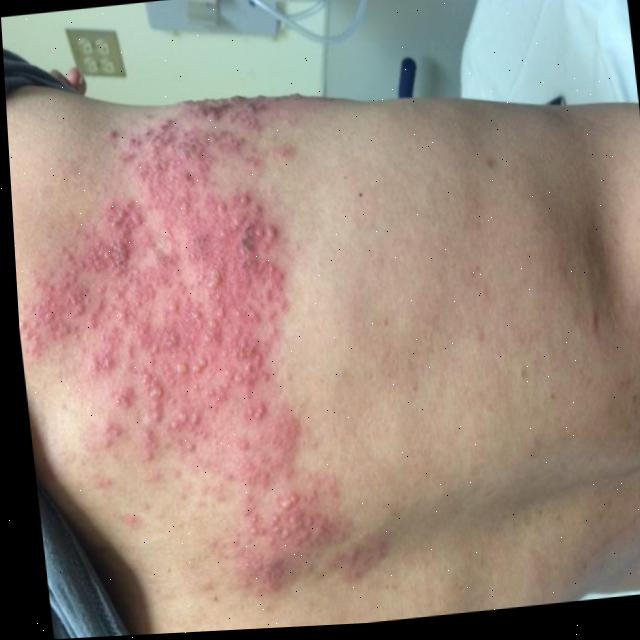Shingles: (8, 115, 351, 578)
